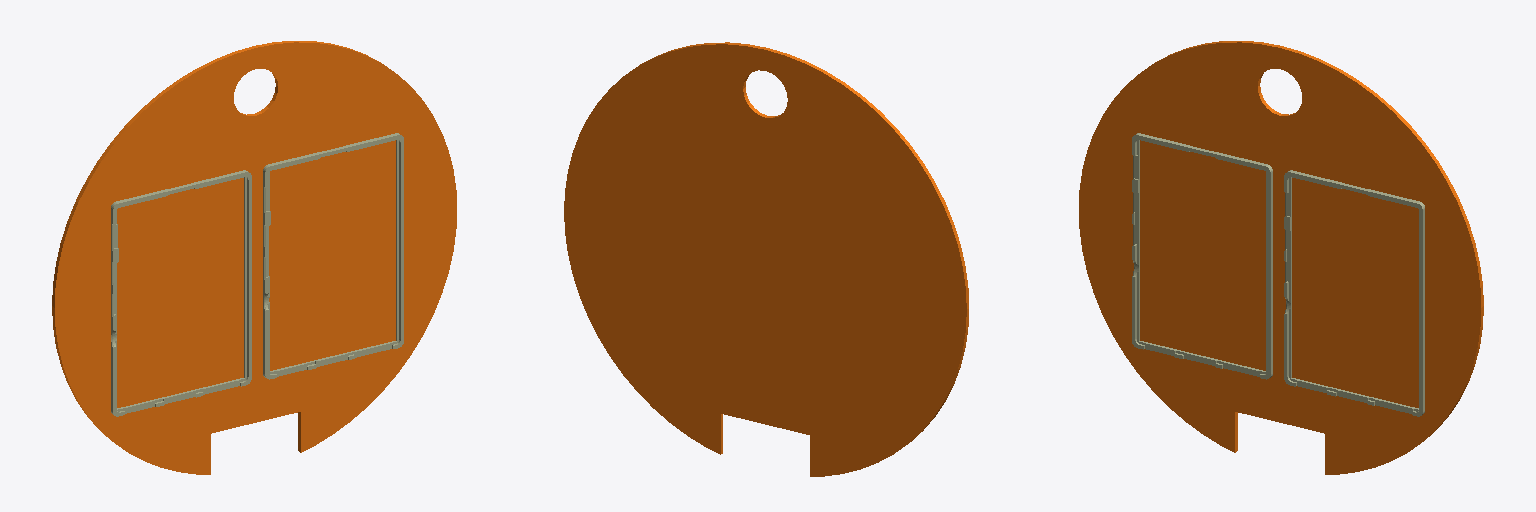
File: tinker.obj
3 renders of one model, left to right at view 1: azimuth 30°, elevation 25°; view 2: azimuth 150°, elevation 25°; view 3: azimuth 330°, elevation 25°, orthographic.
Visible parts, largest first — view 1: obj_0; view 2: obj_0; view 3: obj_0.
Boxes of the visible parts, <box> form: obj_0: <box>52,41,456,474</box>; obj_0: <box>564,42,968,476</box>; obj_0: <box>1079,41,1483,474</box>.
Bounding box in the file's own units: 180 × 178 × 4.